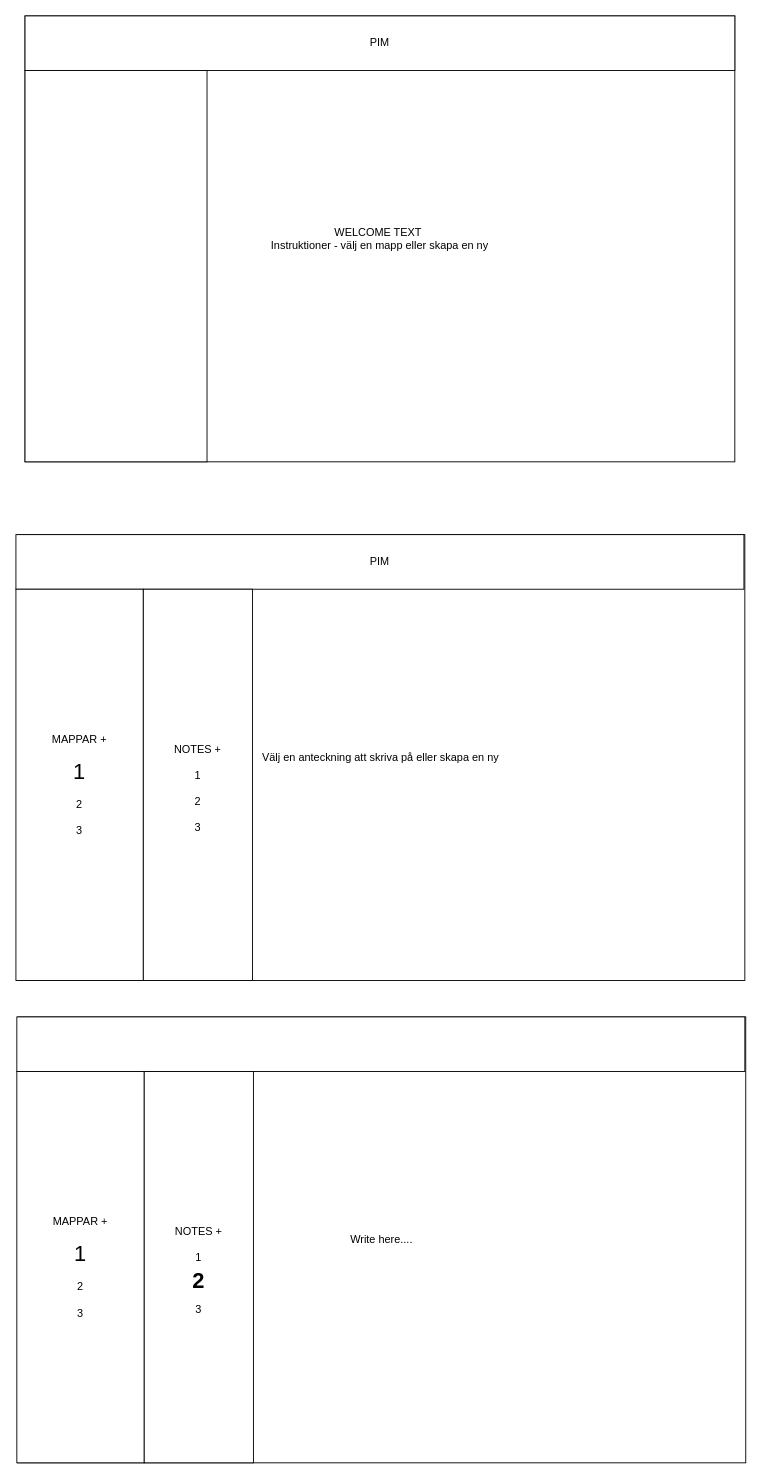
Some shapes in this 762 by 1479 pixel diagram are drawn without their labels. Each missing label, with the centre of its shape:
Mappar + 1 2 3 4 5: point (115, 266)
PIM INSERT FILE INSERT PICTURE DELETE NOTE SAVE NOTE: point (380, 1044)
